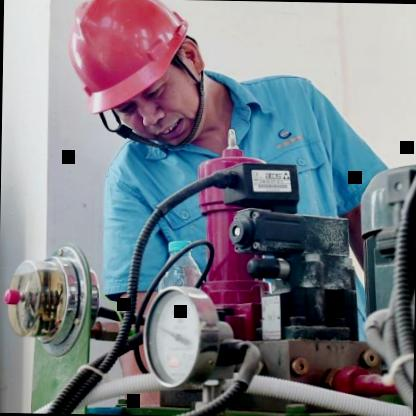helmet: (54, 0, 226, 153)
